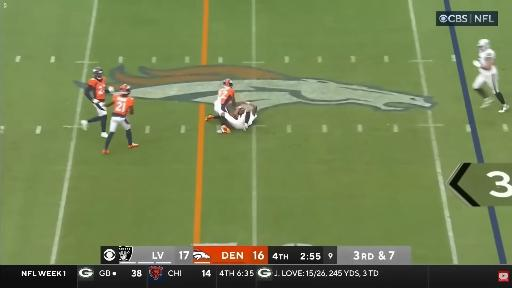Helmet: (119, 84, 131, 96), (478, 39, 490, 50), (93, 67, 103, 79), (223, 79, 233, 87)
Jersey: (112, 95, 134, 117), (88, 78, 105, 101), (215, 87, 234, 105), (479, 49, 495, 65), (251, 112, 259, 118)
Player: (473, 39, 509, 112), (103, 84, 138, 153), (81, 67, 114, 137), (206, 79, 235, 125), (222, 102, 257, 130)
